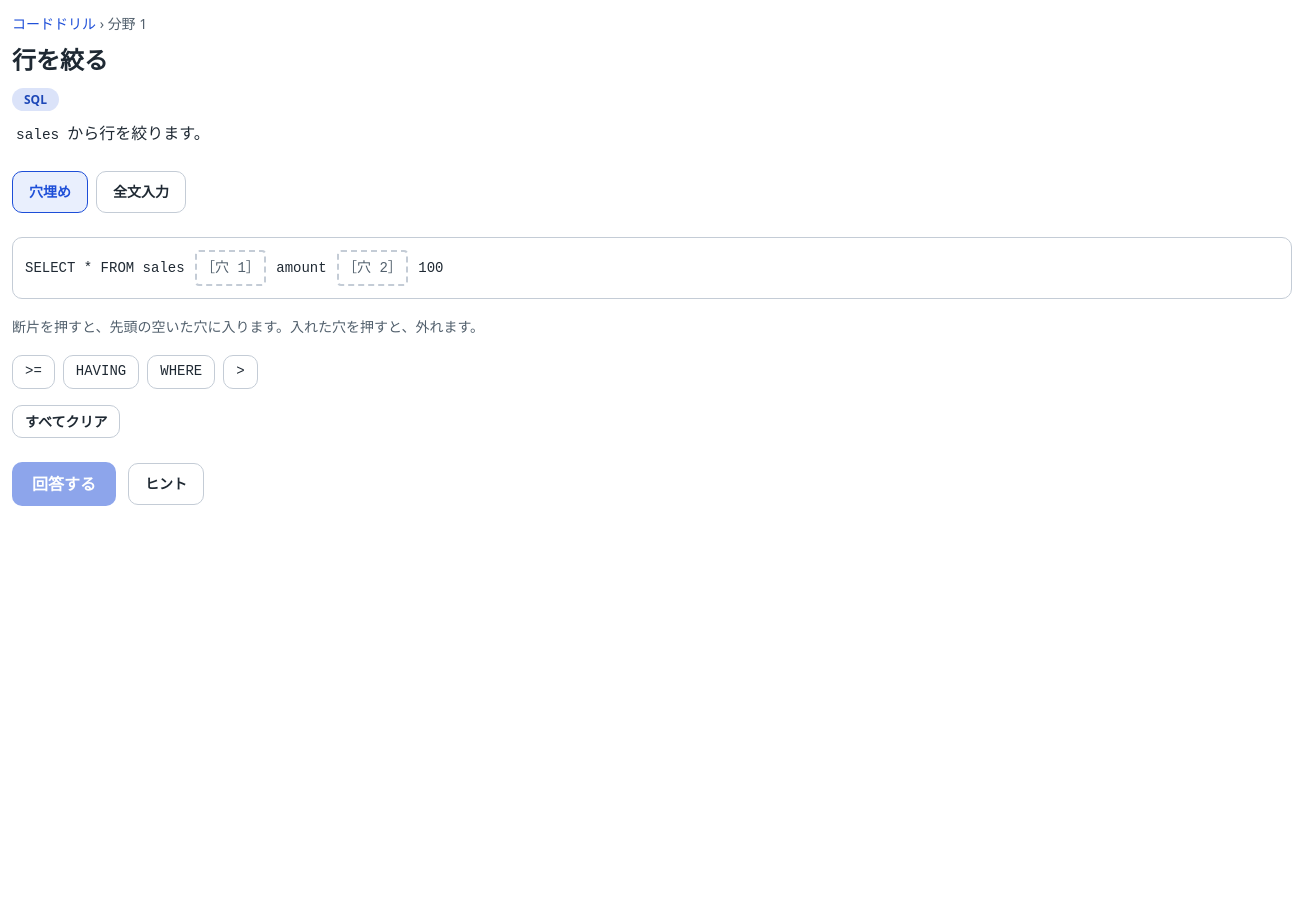
CodeDrillPlayer(穴埋め) › 不正解で回答する_正誤と_誤りの断片の実行するとどうなるか_正解のコードと解説を出す
Click the button "HAVING" at (101, 372), box 63,355 -> 139,389
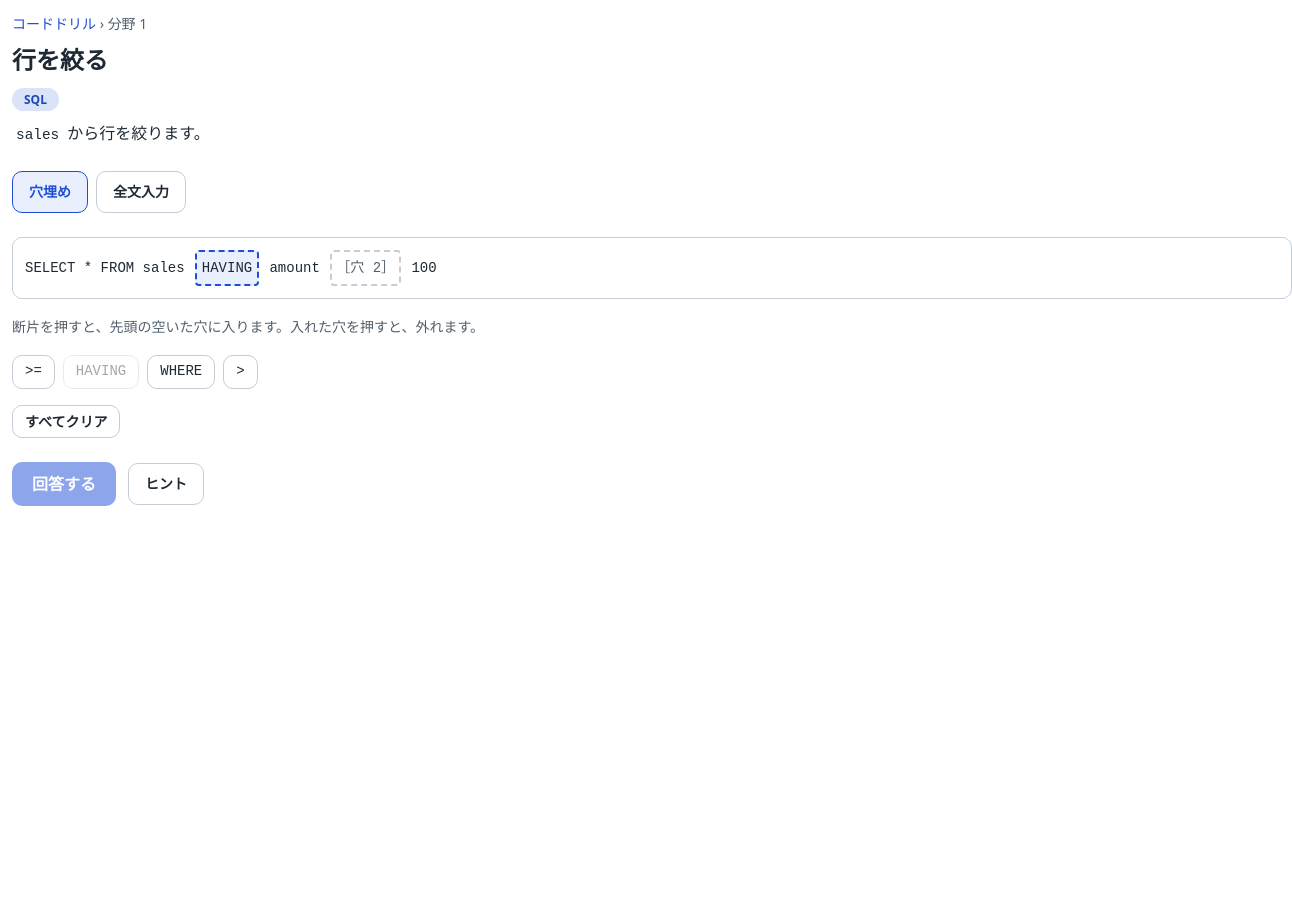
Click the button ">" at (240, 372), box 223,355 -> 258,389
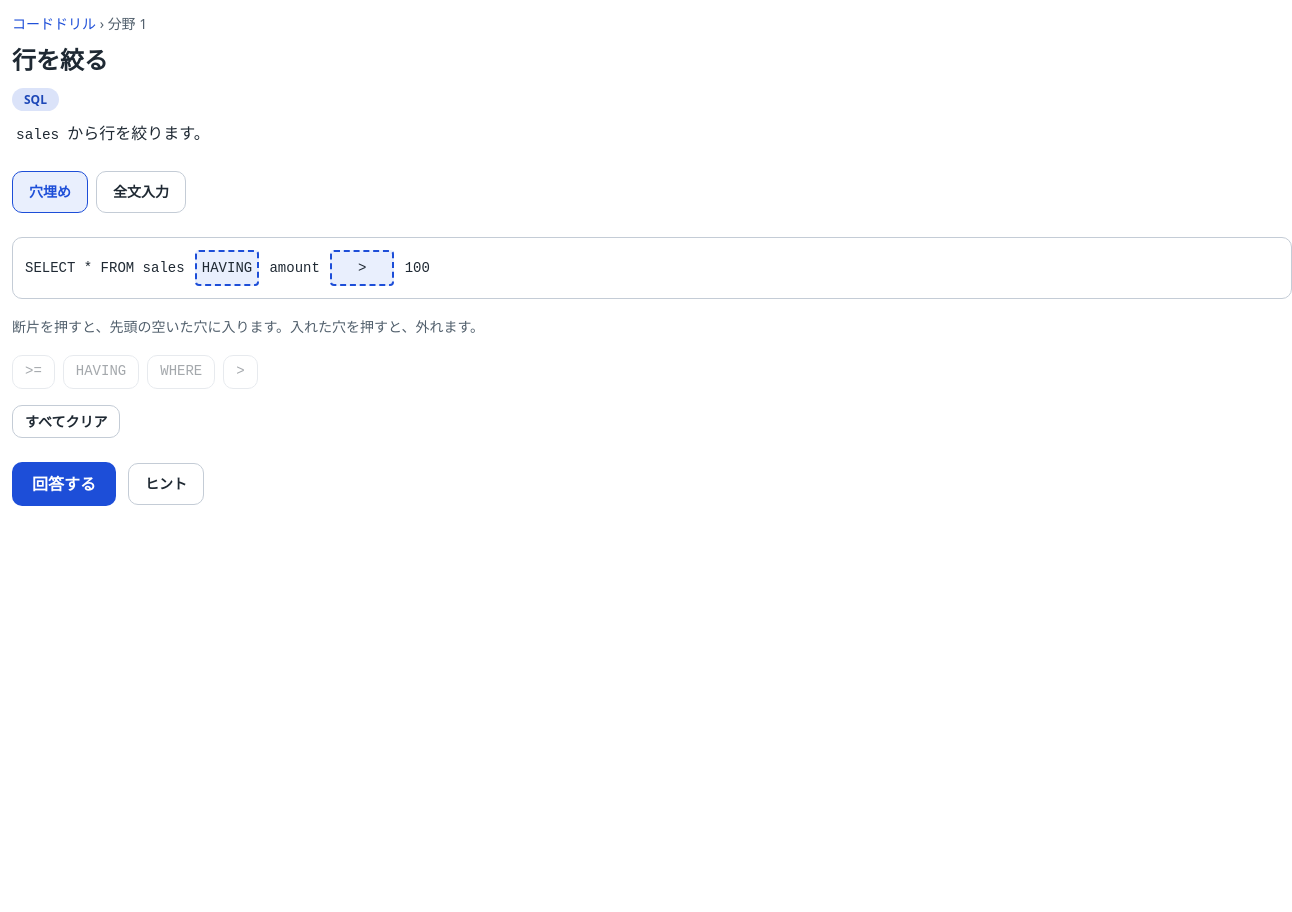
Click the button "回答する" at (64, 484), box 12,462 -> 116,506
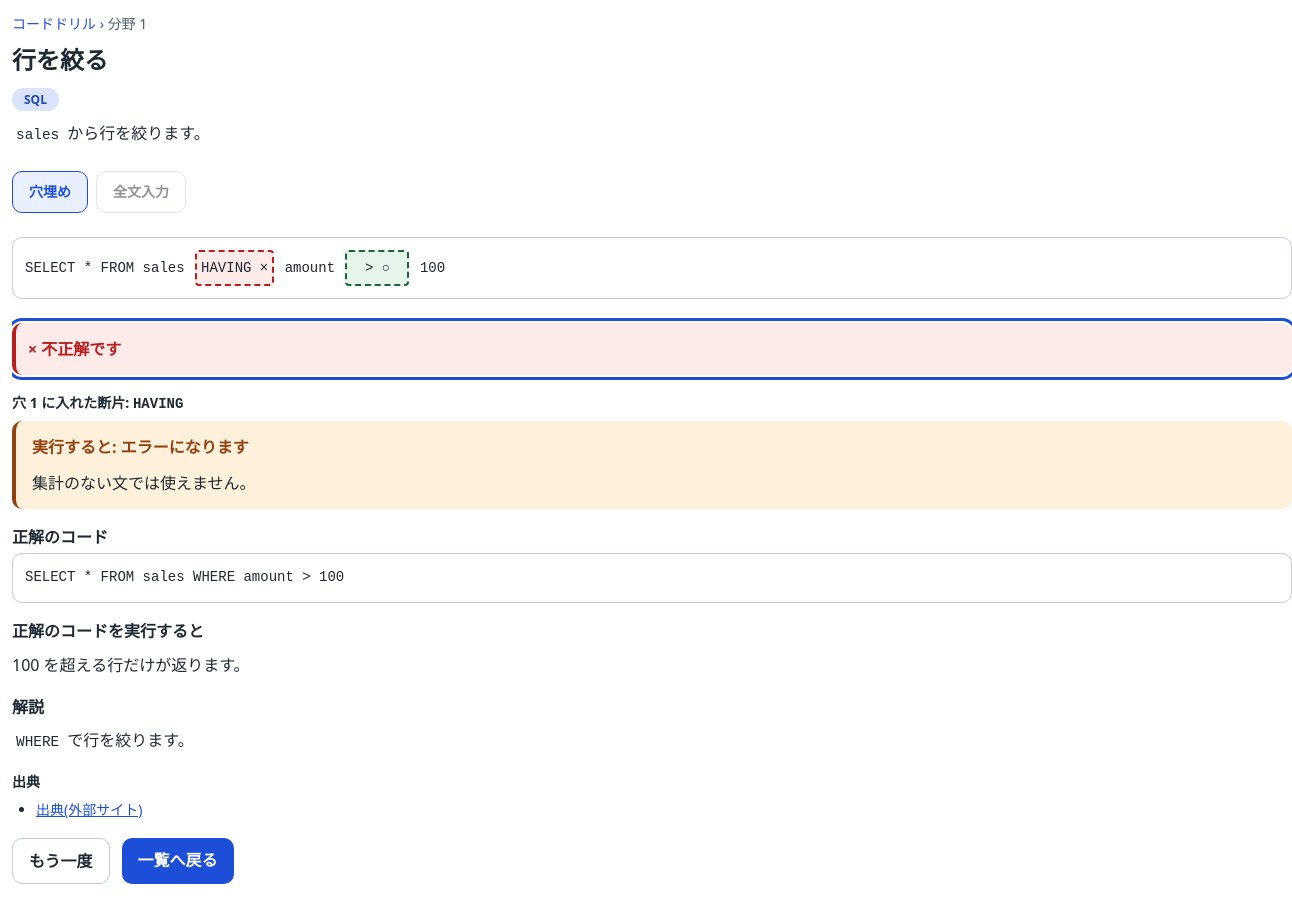
Now the message reads "× 不正解です", box 28,338 -> 121,360
Now the text "実行すると: エラーになります" is shown, box 32,436 -> 249,458
Now the text "集計のない文では使えません。" is shown, box 32,472 -> 256,494
